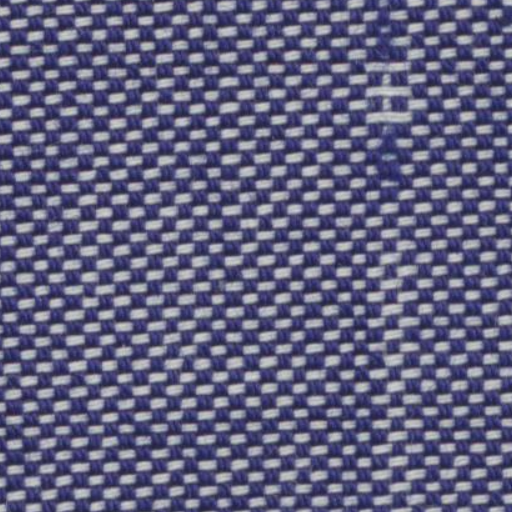TuoSha: (344, 26, 457, 495)
